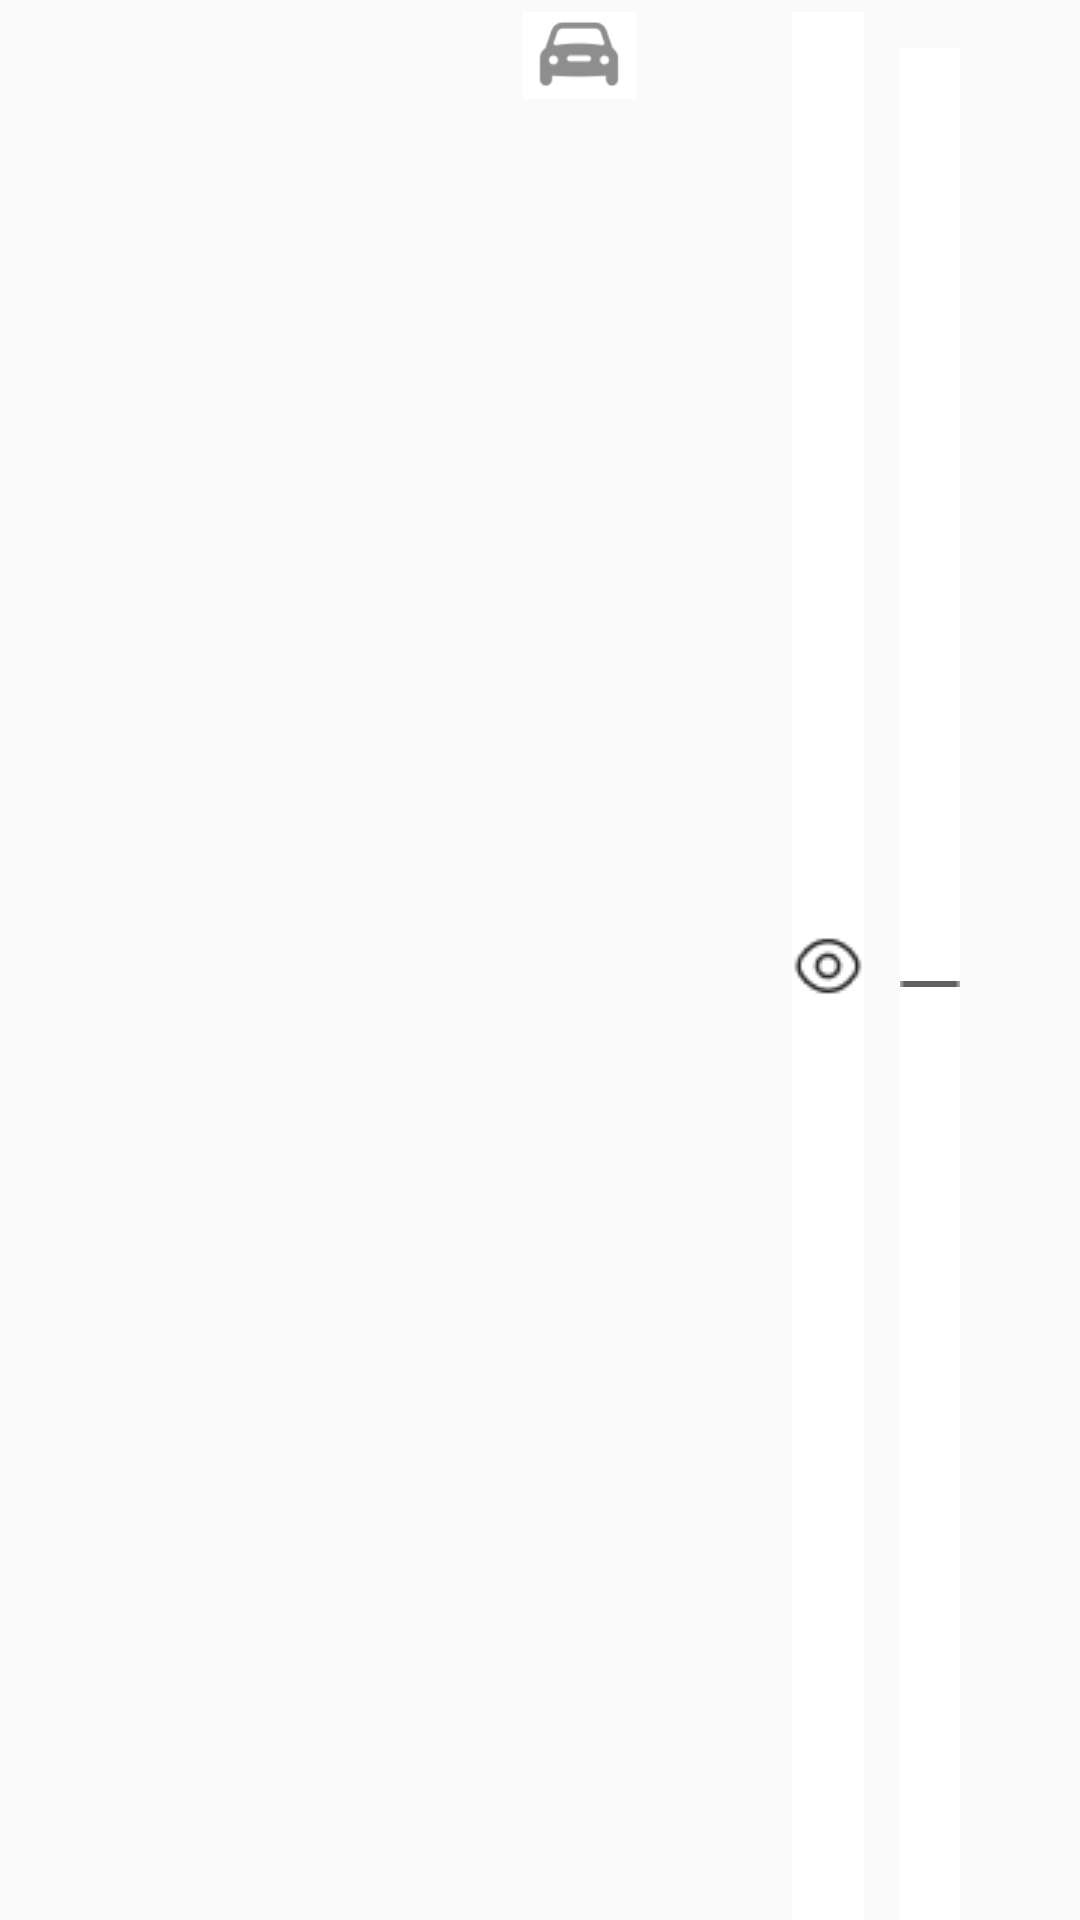

Icon bounding boxes for this 1080px×1920px phone screenshot, format rect(x1, y1, x2, y2):
eye: rect(794, 938, 862, 994)
